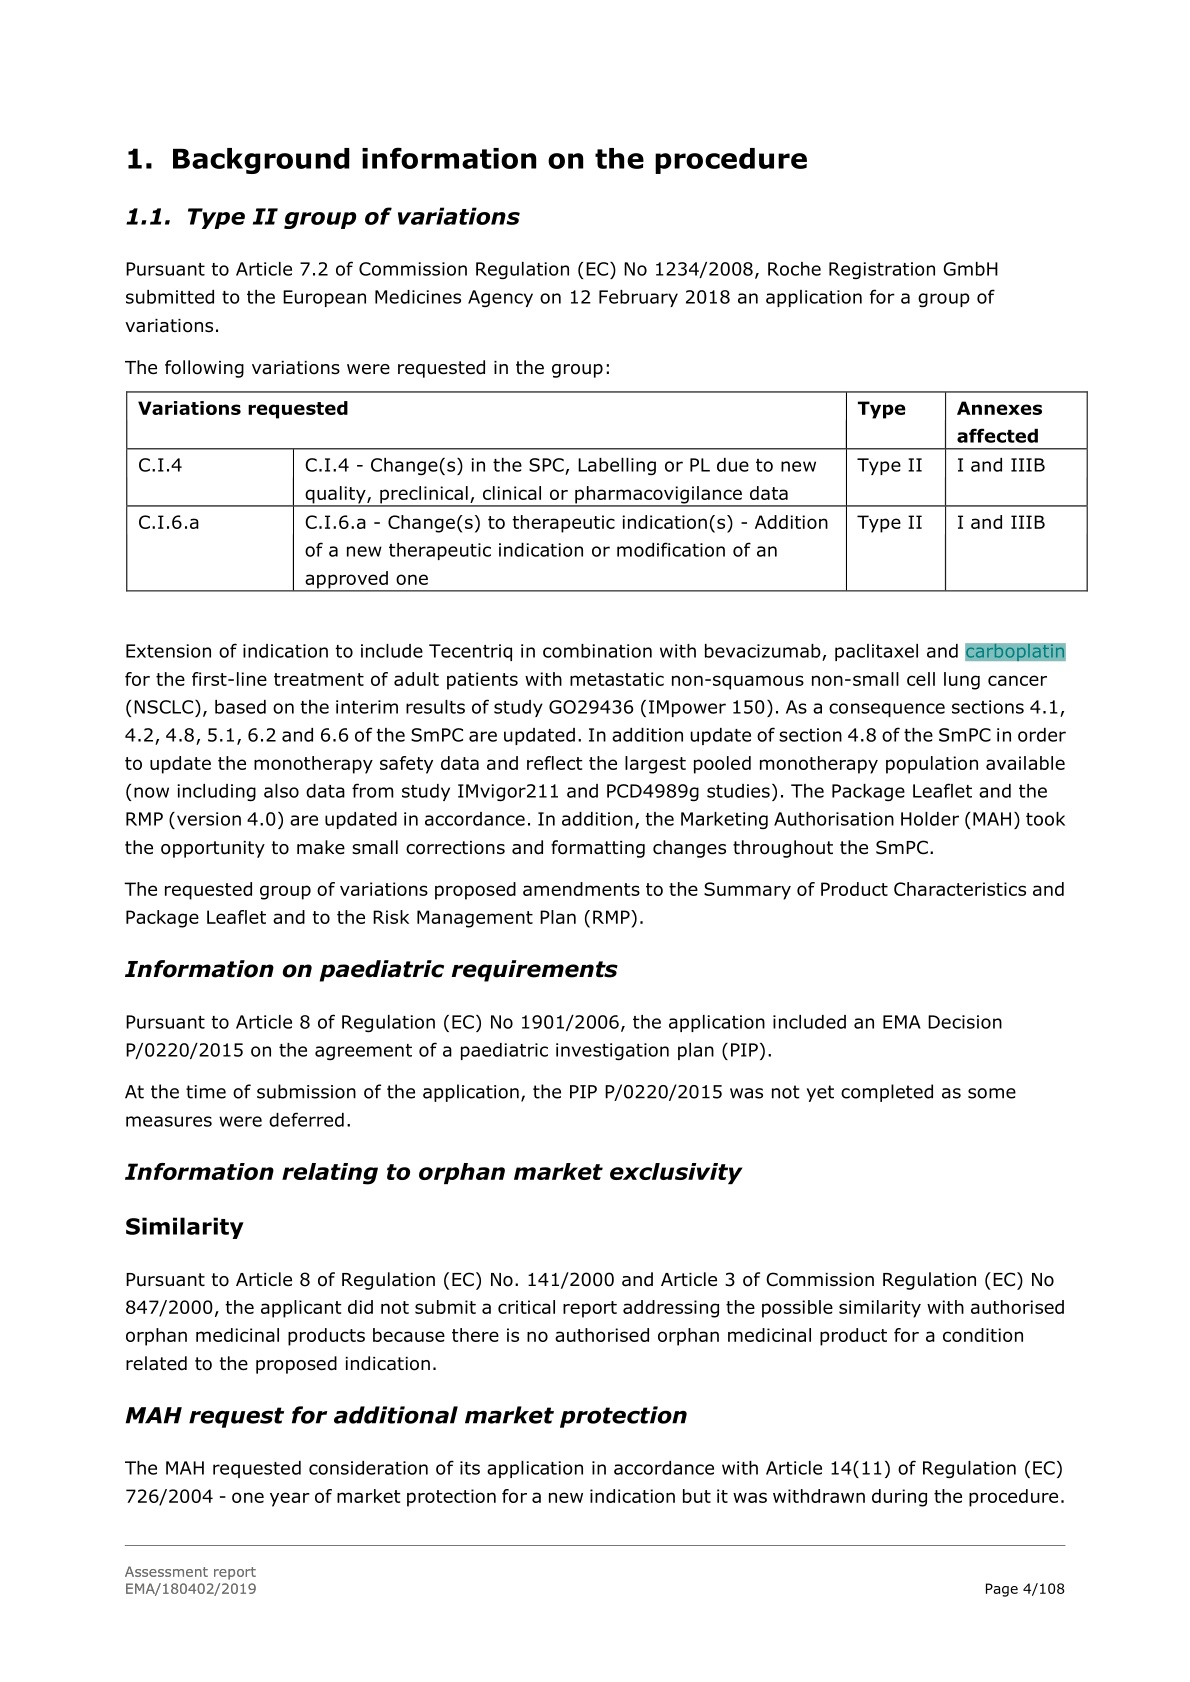merged_cells: (125, 390, 1090, 592)
